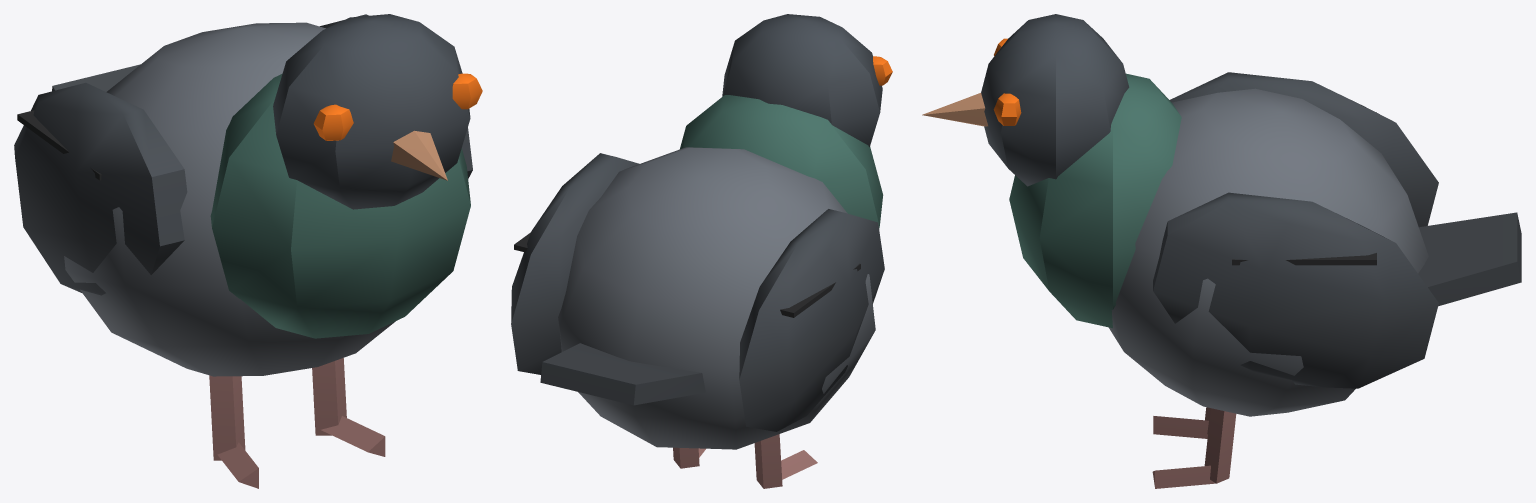
File: 32_pigeon.fbx
3 views of the same model, side by side, from view 1: azimuth 30°, elevation 25°; view 2: azimuth 150°, elevation 25°; view 3: azimuth 270°, elevation 25° (orthographic). The views are drawn at different scales.
Parts seen in each view (by area): view 1: Pigeon; view 2: Pigeon; view 3: Pigeon.
Boxes of the visible parts, x1,y1,x2,y2 form: Pigeon: (14, 14, 482, 488); Pigeon: (511, 14, 892, 488); Pigeon: (922, 14, 1521, 488).
Size of the model in its own units: 0.168 by 0.224 by 0.28.
1 material, 1 textured.
